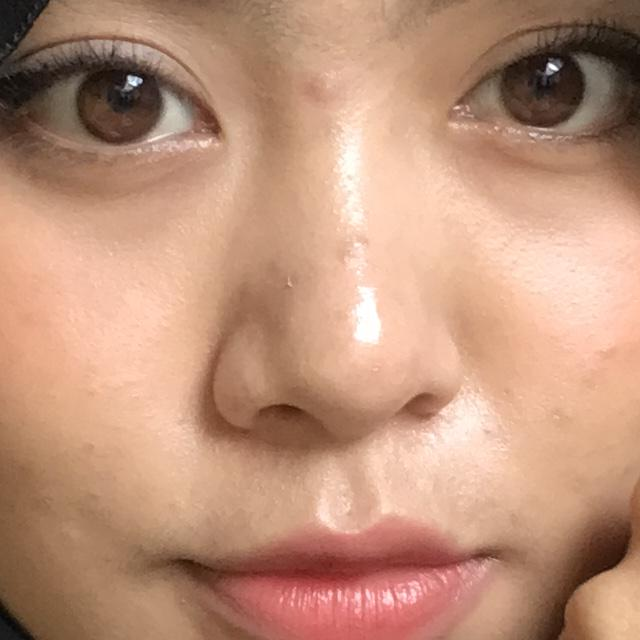telpon: (250, 66, 640, 640)
